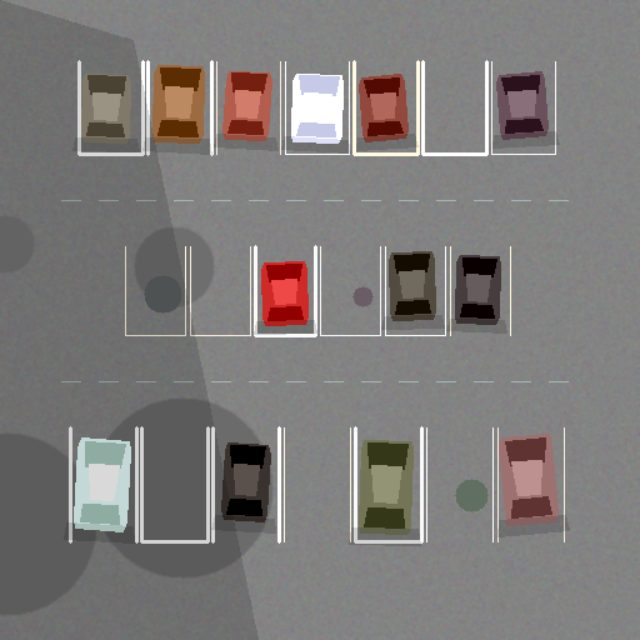space-empty: (141, 428, 208, 541), (284, 428, 350, 541), (426, 428, 492, 541), (423, 61, 486, 154), (125, 246, 185, 335), (190, 246, 250, 335), (320, 246, 380, 335)
space-occupied: (212, 428, 279, 541), (70, 428, 136, 541), (355, 428, 421, 541), (498, 428, 564, 541), (79, 61, 143, 154), (147, 61, 211, 154), (216, 61, 280, 154), (285, 61, 349, 154), (491, 61, 555, 154), (354, 61, 417, 154), (255, 246, 315, 335), (385, 246, 445, 335), (450, 246, 510, 335)
